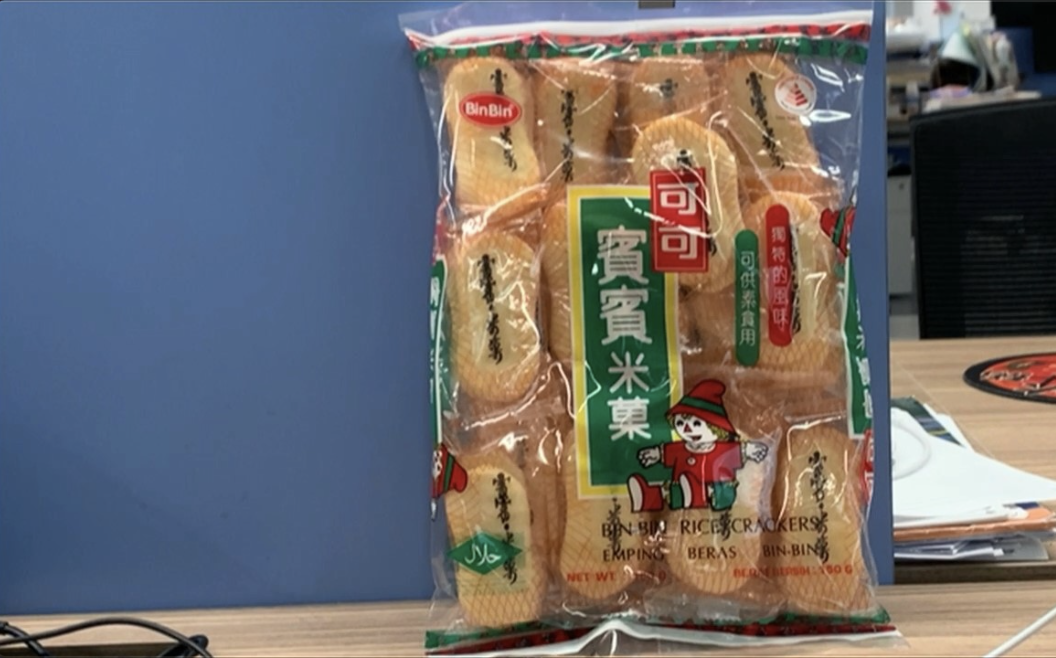crackers_100g-199g: (456, 53, 860, 619)
